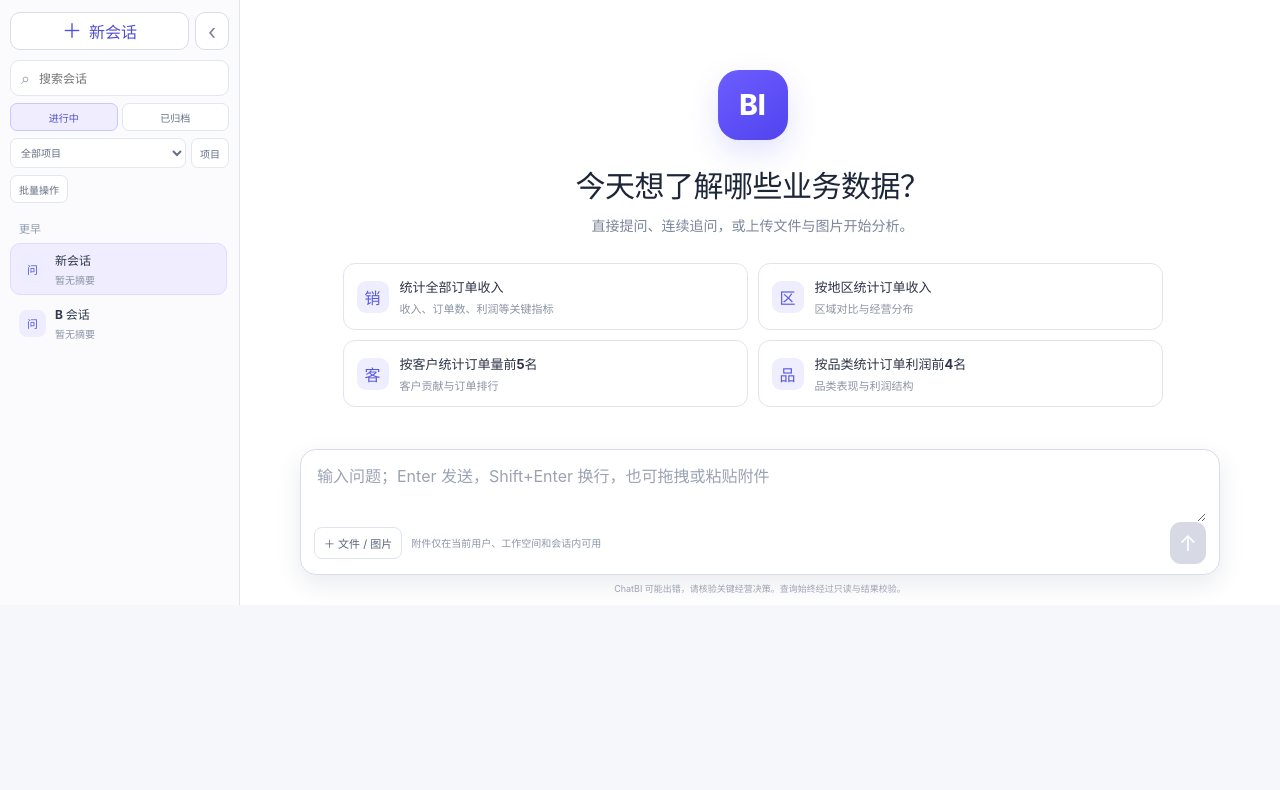
Test: 问数据真实多轮界面 › 切换会话会立即取消旧流并释放发送锁，迟到 delta 不串入新会话
Type "A 会话长任务" into the text box named "输入业务问题".
click(760, 491); type("A 会话长任务")  # box 314,460 -> 1206,522
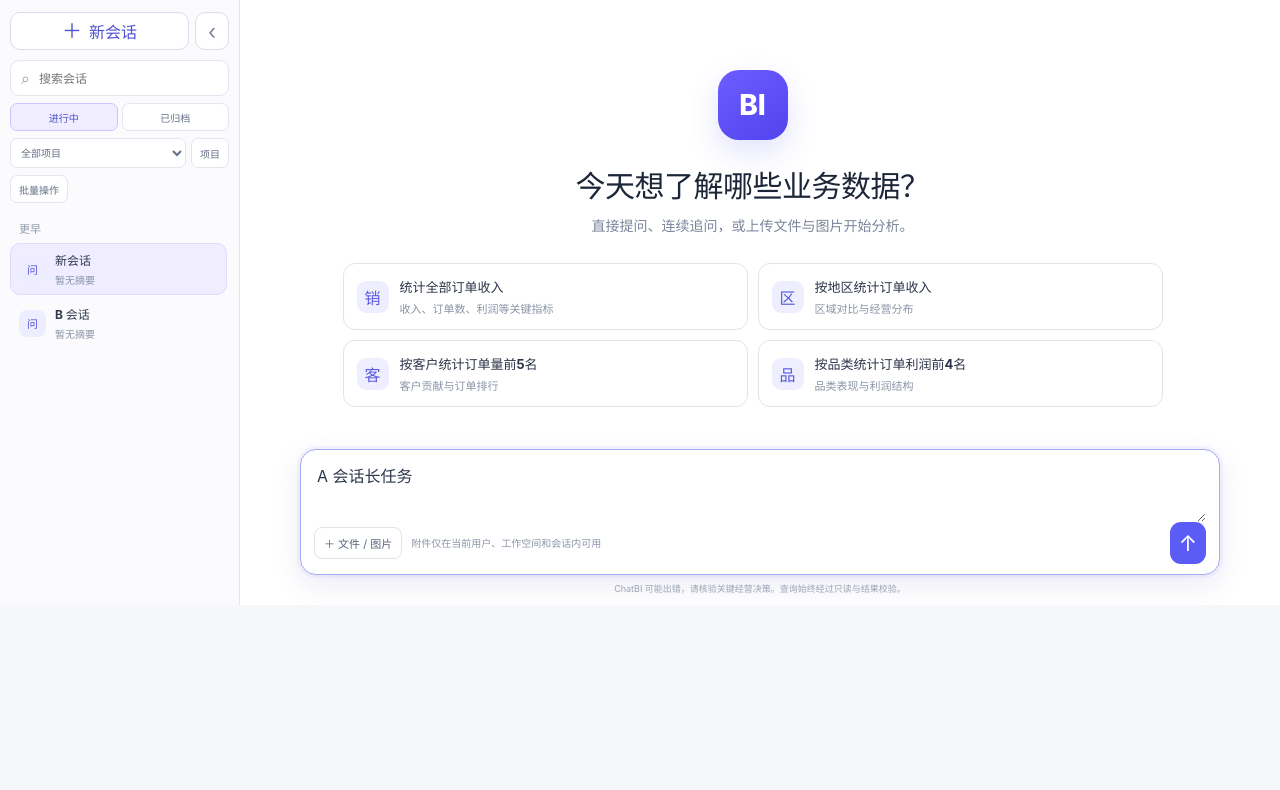
Click the button named "提交问题".
click(1188, 543)  # box 1170,522 -> 1206,564
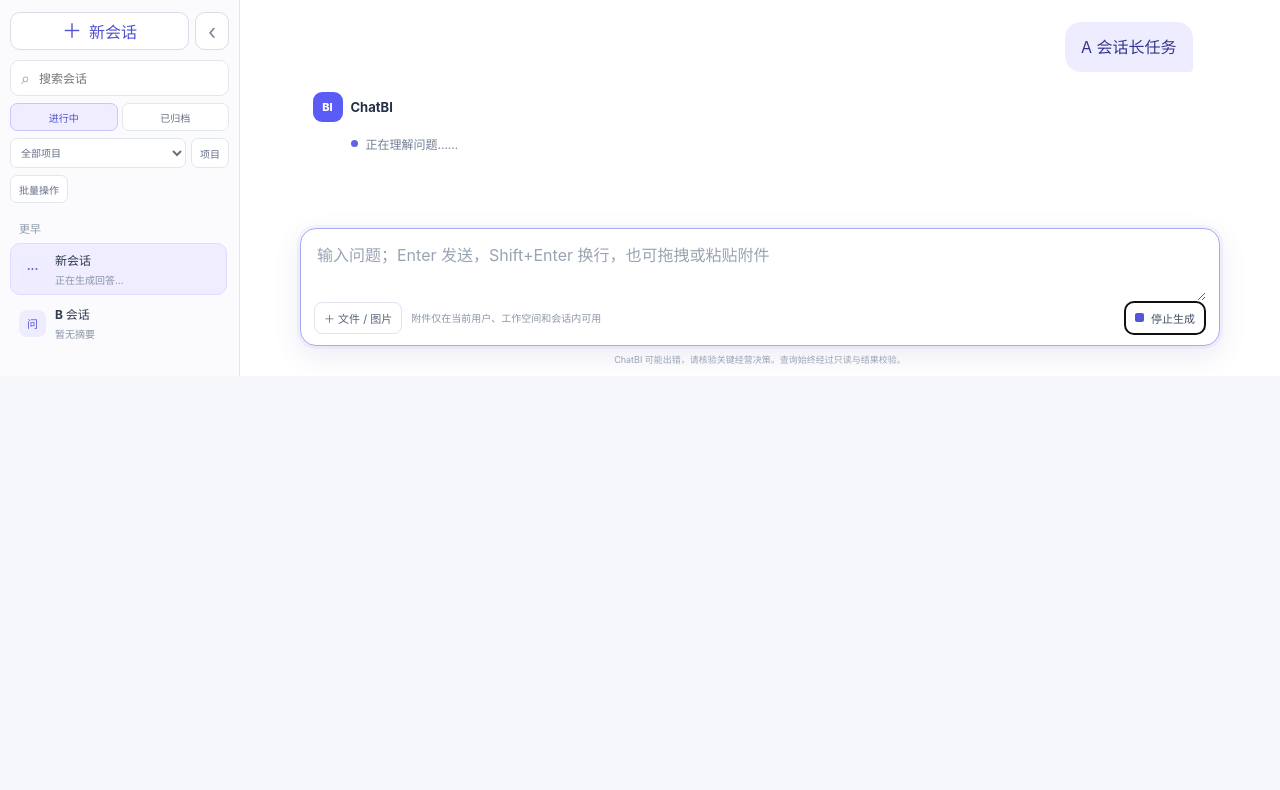
Expected: the button "停止生成" is shown, 1124,301 -> 1206,335
Click the button "问 B 会话 暂无摘要".
click(118, 323)  # box 11,298 -> 226,348
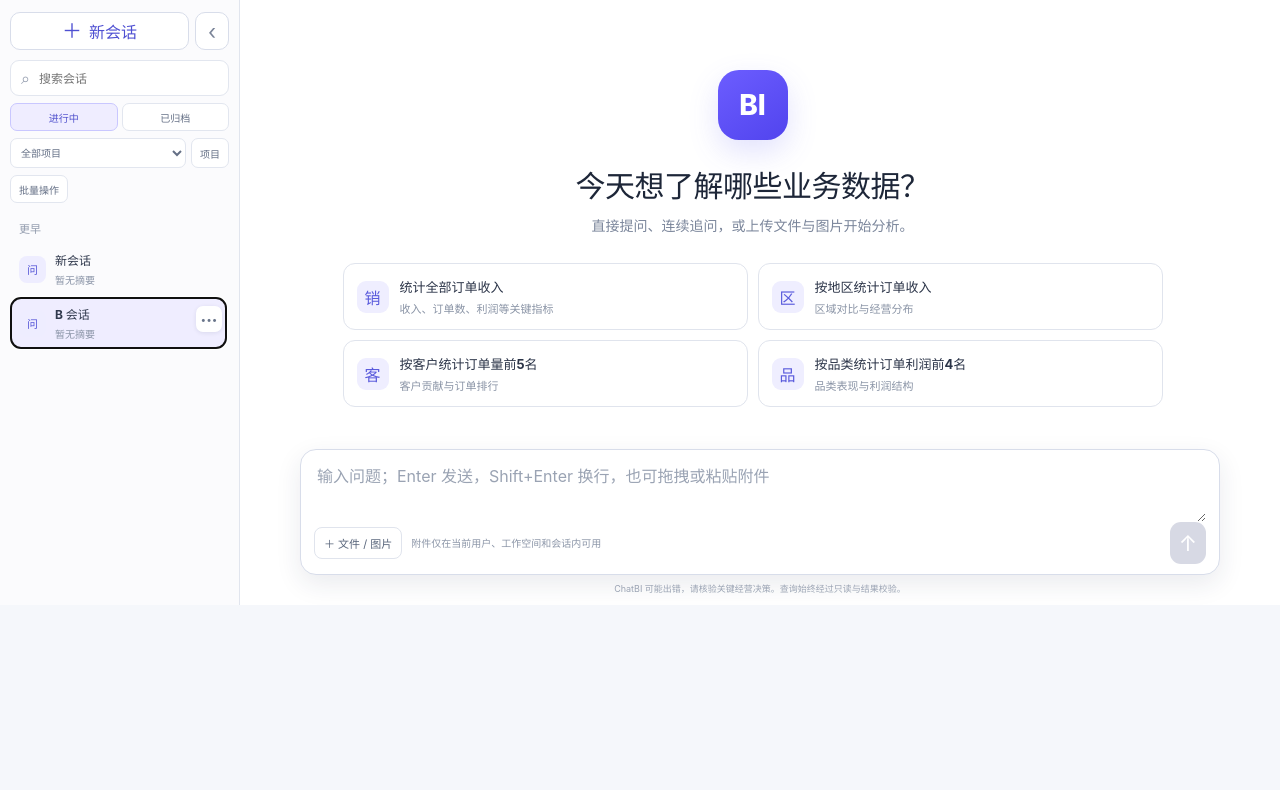
Expected: the button "停止生成" is gone
Type "B 会话新问题" into the text box named "输入业务问题".
click(760, 491); type("B 会话新问题")  # box 314,460 -> 1206,522
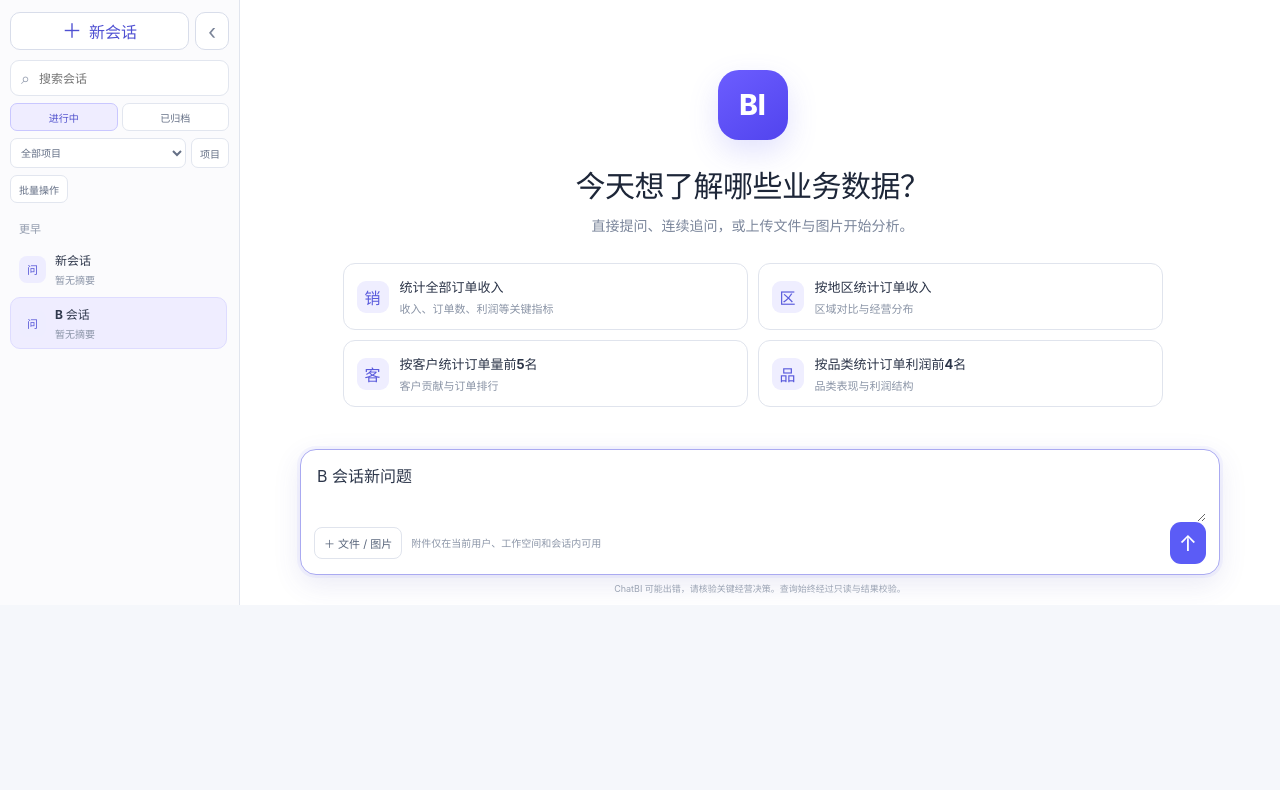
Expected: the button named "提交问题" is enabled
Click the button named "提交问题".
click(1188, 543)  # box 1170,522 -> 1206,564
(page scrolled)
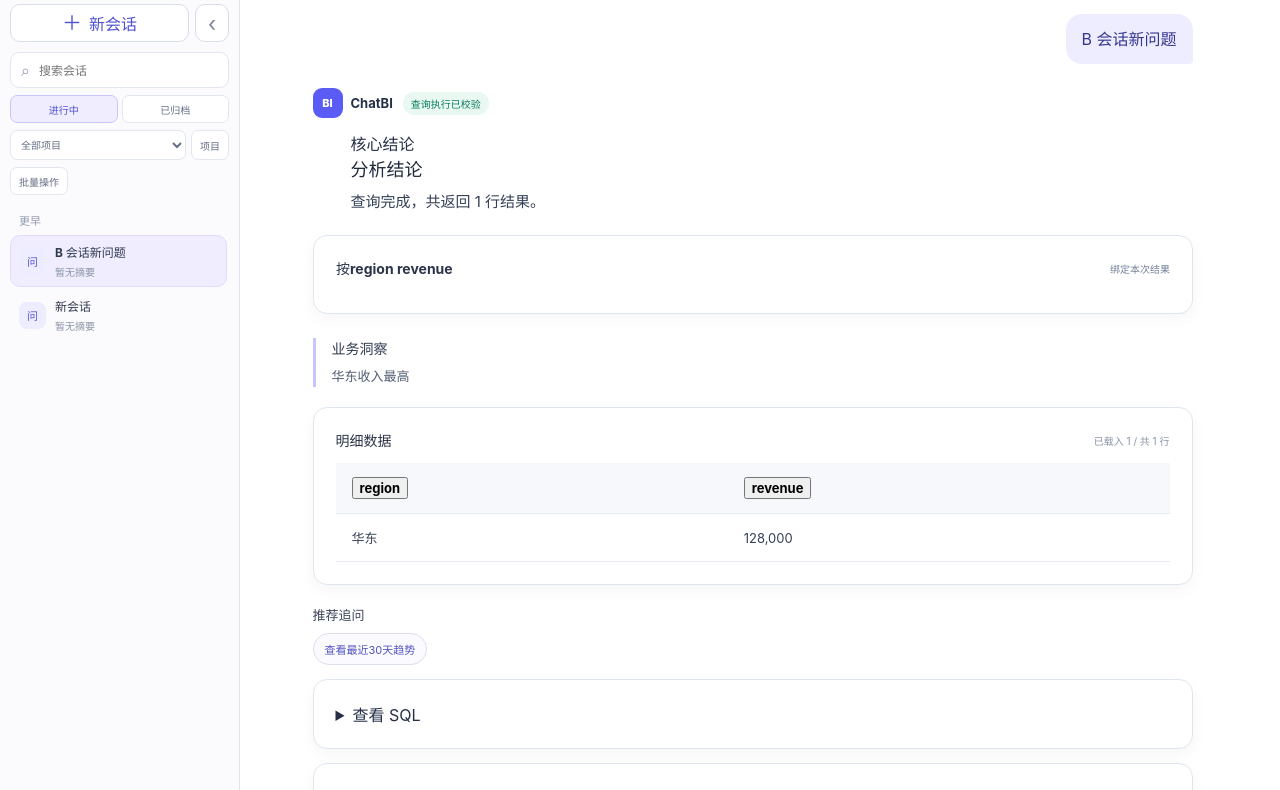
Expected: the text "A 会话长任务" is not shown
Expected: the 1st text "B 会话新问题" is shown, 1082,26 -> 1176,52
